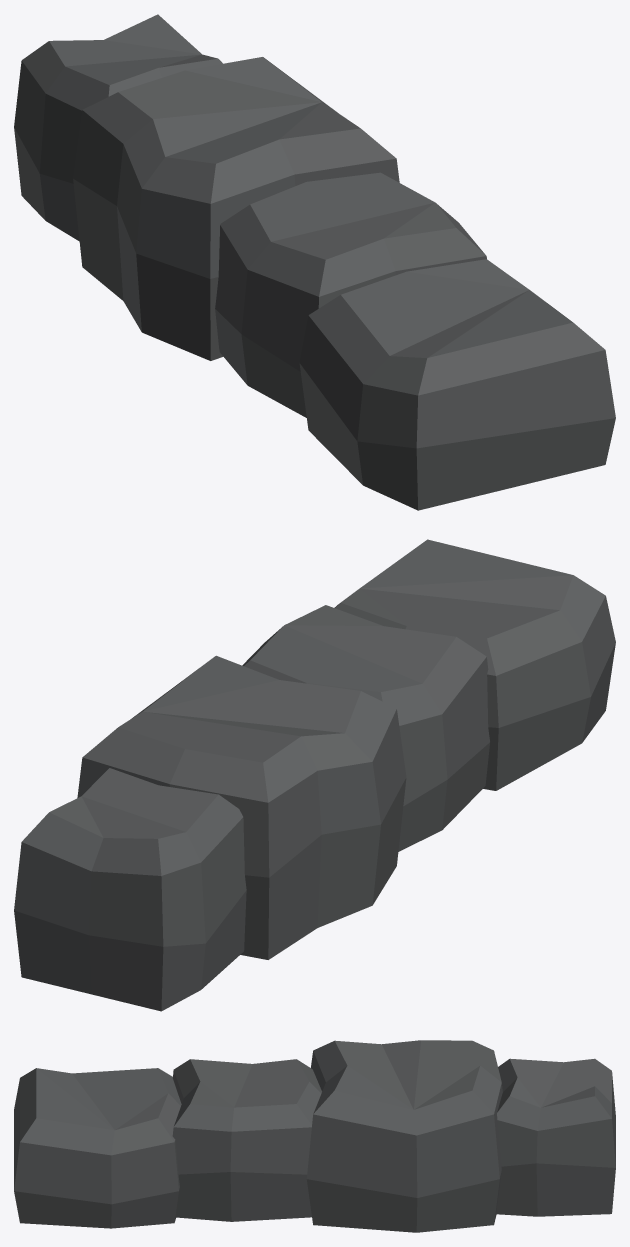
File: wall_acc_04.FBX
The picture shows the model from 3 angles, top to bottom: view 1: azimuth 30°, elevation 25°; view 2: azimuth 150°, elevation 25°; view 3: azimuth 270°, elevation 25°; orthographic projection. The views are drawn at different scales.
Visible parts, largest first — view 1: wall_acc_04; view 2: wall_acc_04; view 3: wall_acc_04.
Boxes of the visible parts, x1,y1,x2,y2 form: wall_acc_04: [14, 14, 615, 510]; wall_acc_04: [14, 539, 615, 1011]; wall_acc_04: [14, 1040, 615, 1232].
Size of the model in its own units: 34.05 by 24.07 by 103.
